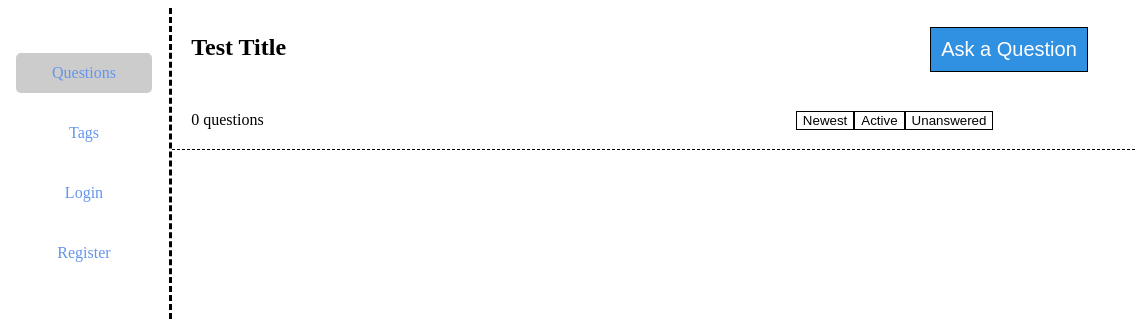
Test: Main Component › displays TagPage when Tags button is clicked
Click the text with id "menu_tag": point(84, 133) 69,124 -> 99,141
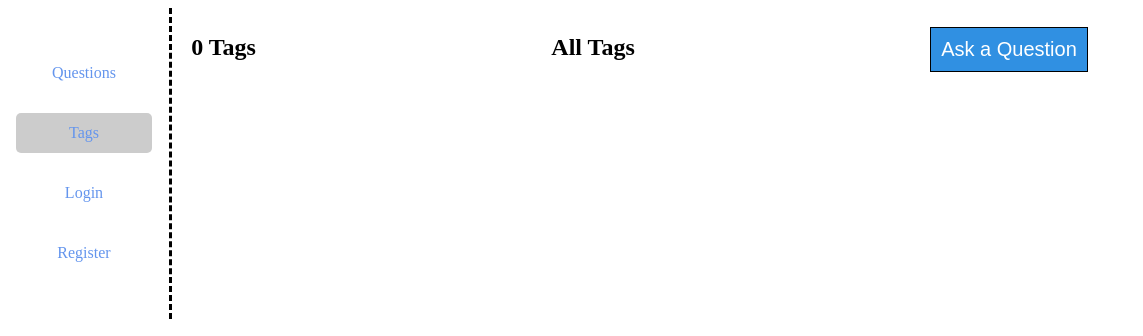
expect the text "Tags" is shown: met, box 203,34 -> 256,60
